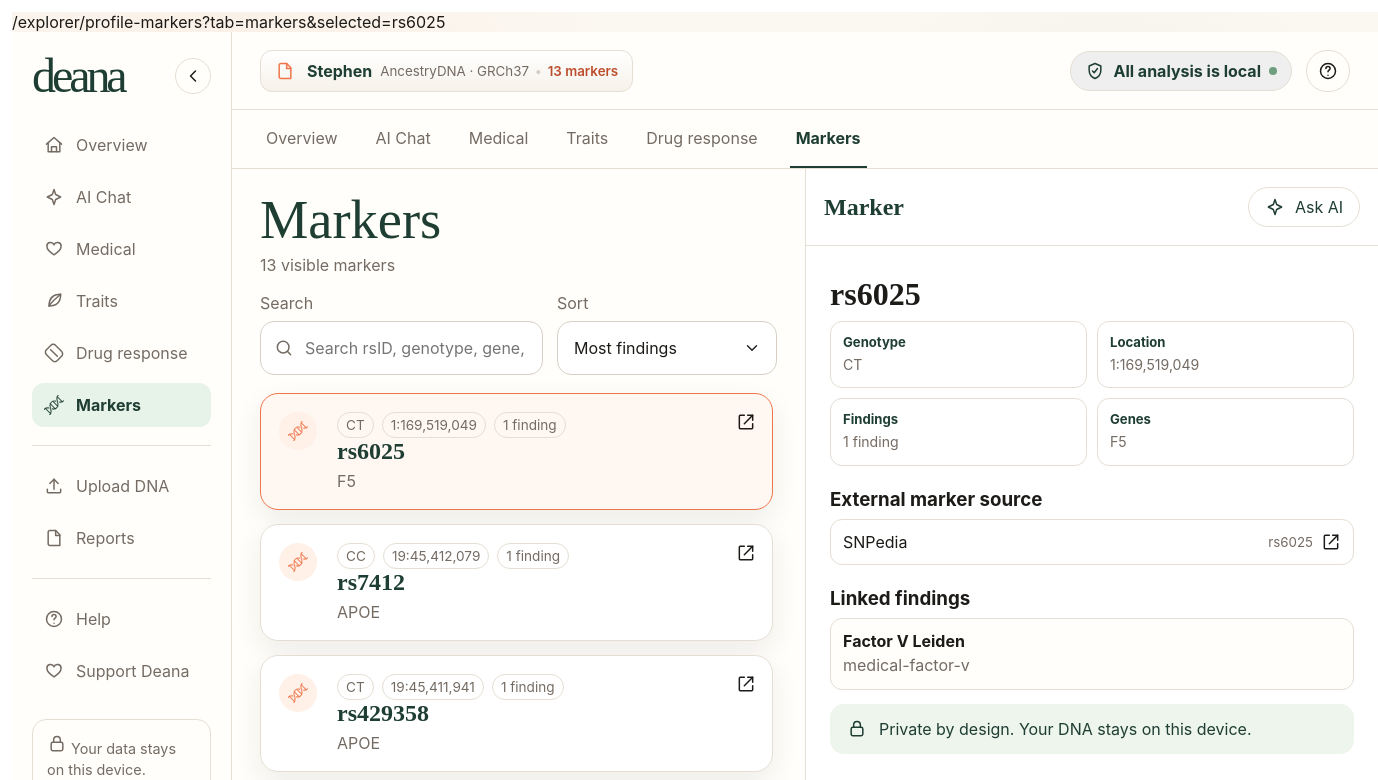
it: Deana app › lists raw markers with finding counts and opens linked findings from the marker inspector
The image size is (1378, 780).
expect the heading "Markers" is shown: met, box [260,193,441,247]
Click the button "CT 1:169,519,049 1 finding rs6025 F5". click: (298, 431)
box: [260,393,773,510]
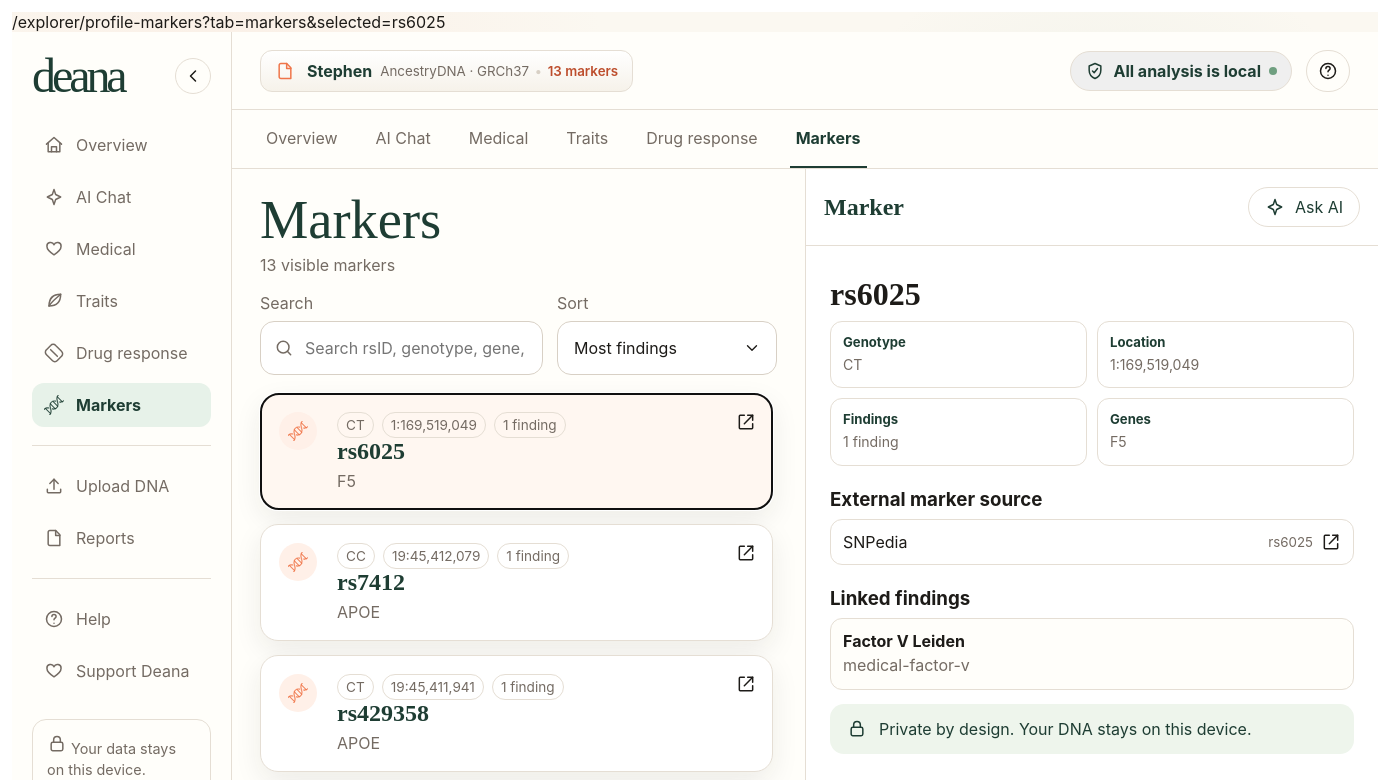
expect the 1st heading "rs6025" is shown: met, box [830,276,921,312]
Click the button "Factor V Leiden medical-factor-v". click: (904, 641)
box: [830,618,1354,690]
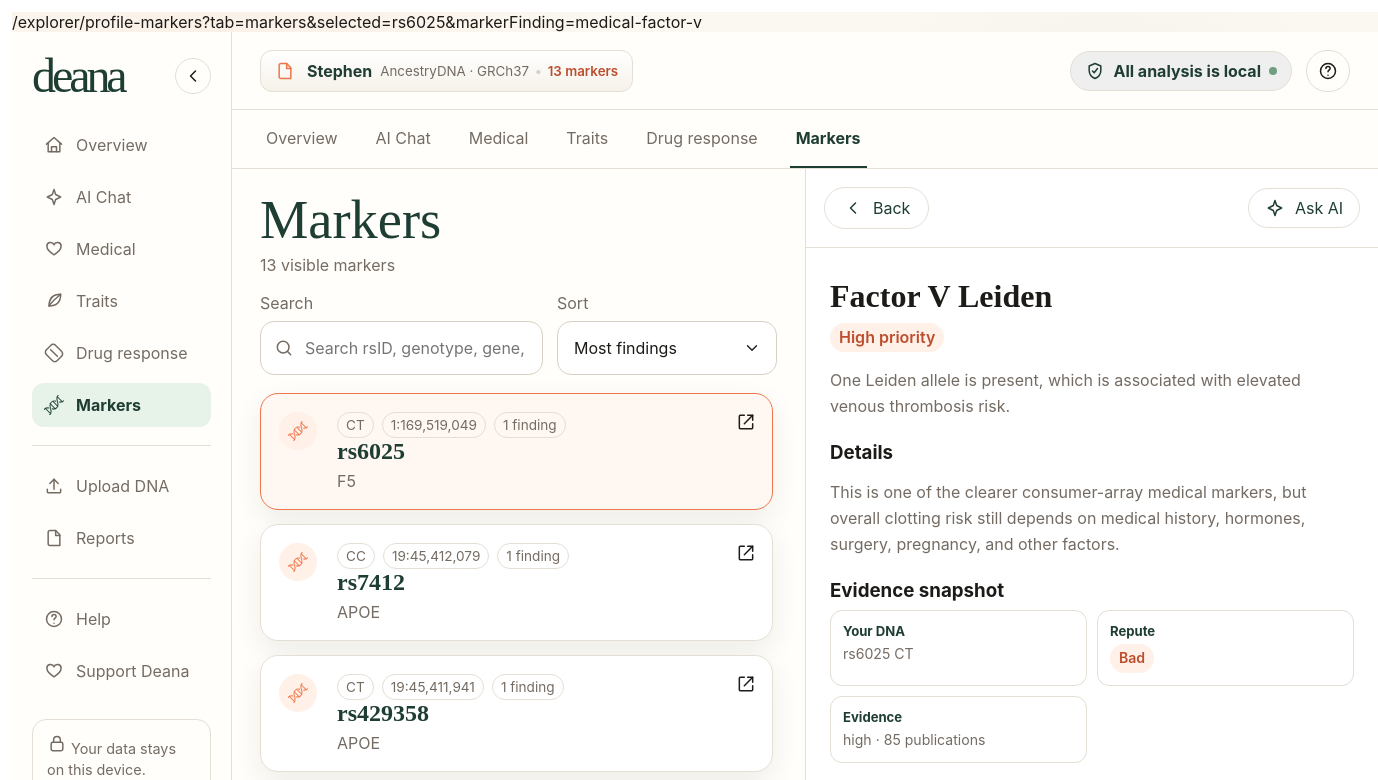
expect the heading "Factor V Leiden" is shown: met, box [830,278,1052,314]
Click the button "Back". click: (877, 208)
box: [824,187,929,229]
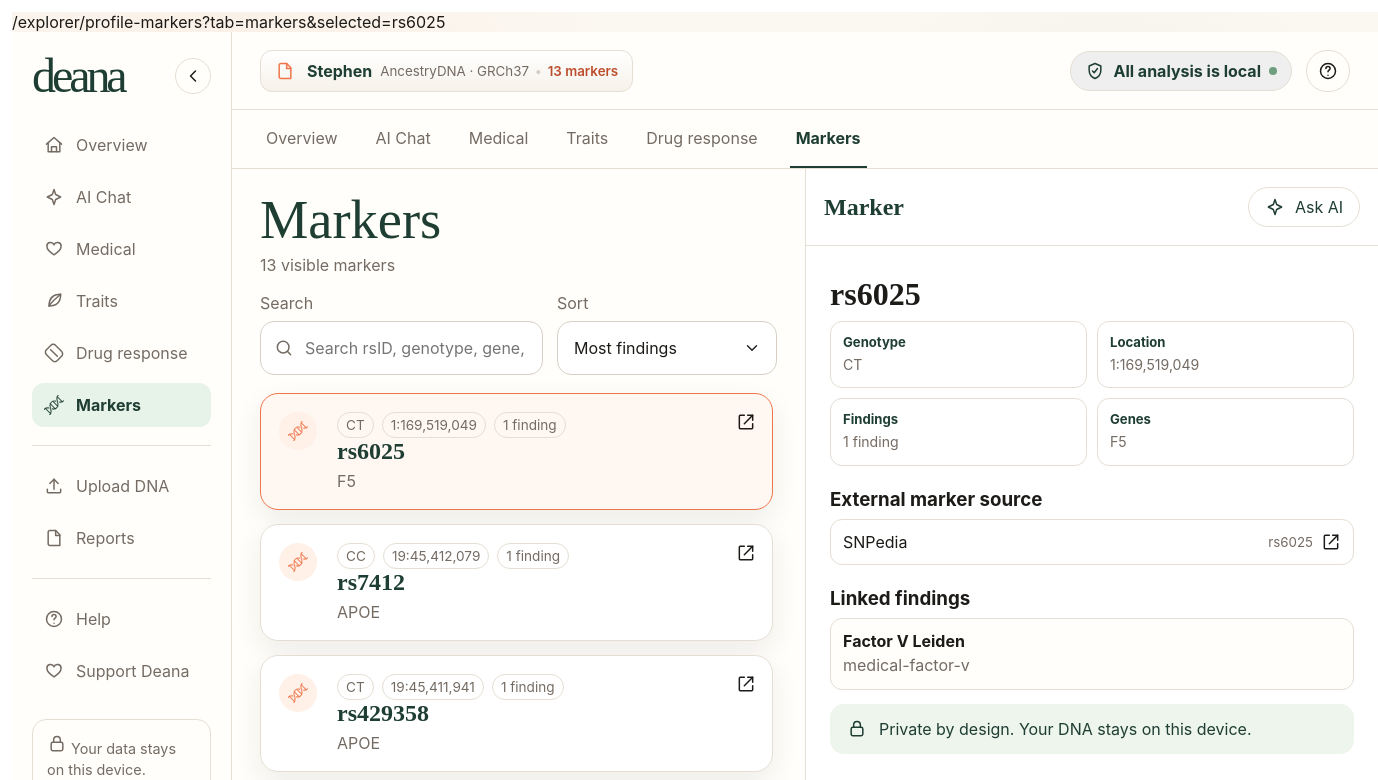
expect the 1st heading "rs6025" is shown: met, box [830,276,921,312]
